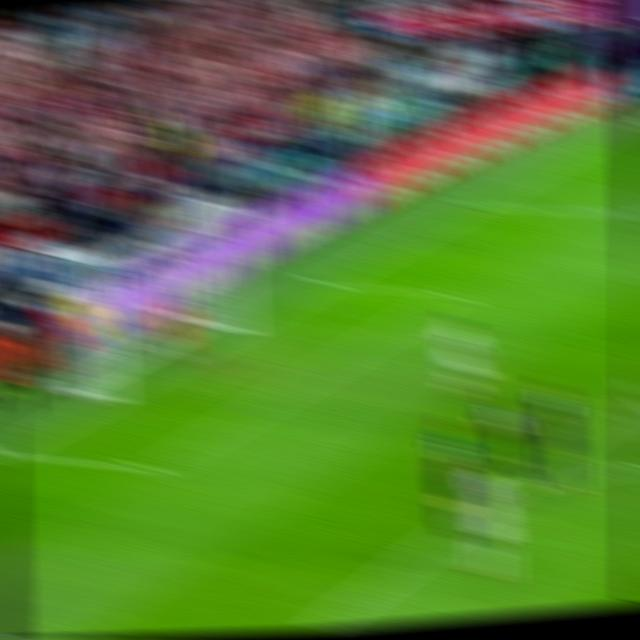bigarea_top_outter: (456, 192, 490, 217)
corner: (610, 109, 639, 133)
smallarea_bottom_inner: (129, 448, 177, 489)
smallarea_bottom_outter: (0, 434, 26, 468)
smallarea_top_inner: (433, 280, 471, 308)
smallarea_top_outter: (308, 270, 344, 297)
